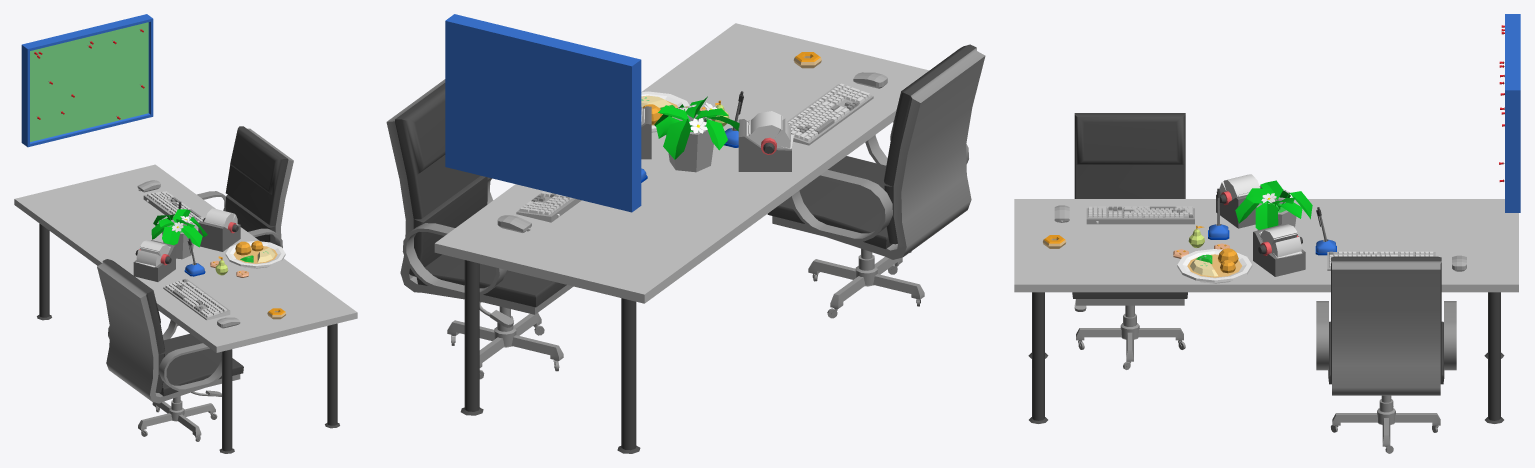
The model's file is OficinasObjetos02.fbx.
3 renders of one model, left to right at view 1: azimuth 30°, elevation 25°; view 2: azimuth 150°, elevation 25°; view 3: azimuth 270°, elevation 25°, orthographic. The views are drawn at different scales.
Parts seen in each view (by area): view 1: OficinasObjetos02; view 2: OficinasObjetos02; view 3: OficinasObjetos02.
Part boxes in pixels (x1,y1,x2,y2): OficinasObjetos02: [14, 14, 357, 453]; OficinasObjetos02: [386, 14, 985, 453]; OficinasObjetos02: [1014, 14, 1520, 453].
Size of the model in its own units: 220 by 220 by 302.
